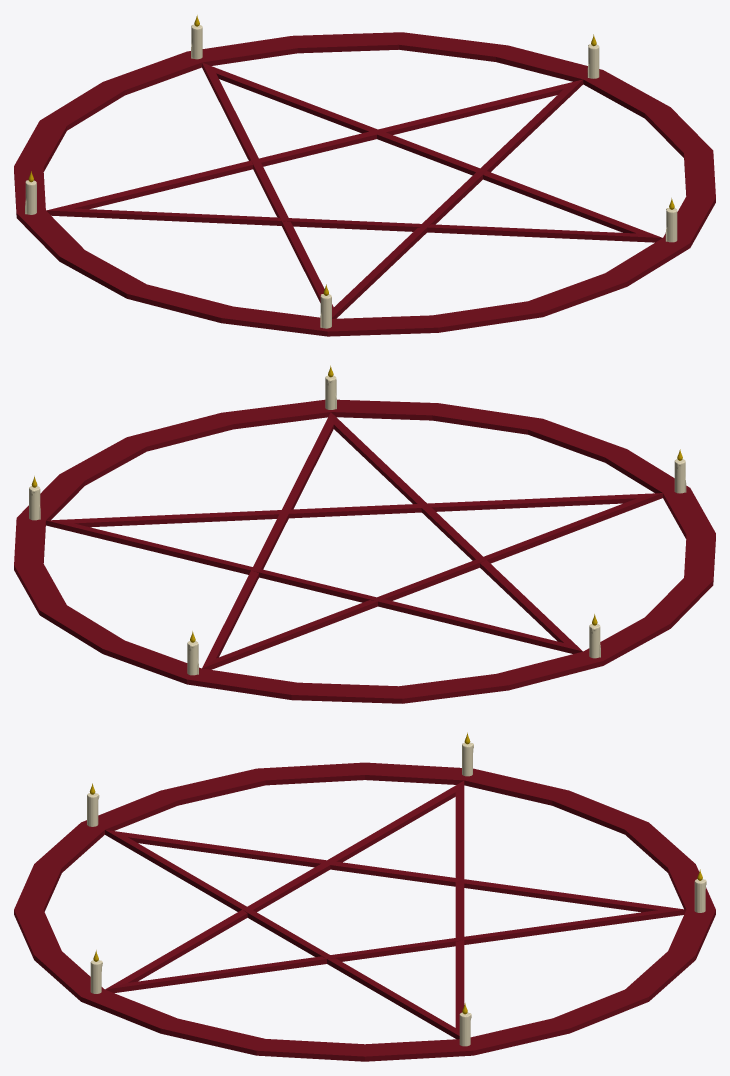
Rendered from pentagram.fbx.
3 renders of one model, top to bottom at view 1: azimuth 30°, elevation 25°; view 2: azimuth 150°, elevation 25°; view 3: azimuth 270°, elevation 25°, orthographic.
Visible parts, largest first — view 1: Circle; view 2: Circle; view 3: Circle.
Part boxes in pixels (<box>): Circle: <box>14,32,715,336</box>; Circle: <box>14,399,715,703</box>; Circle: <box>14,762,715,1061</box>.
Bounding box in the file's own units: 145 × 10.82 × 147.
